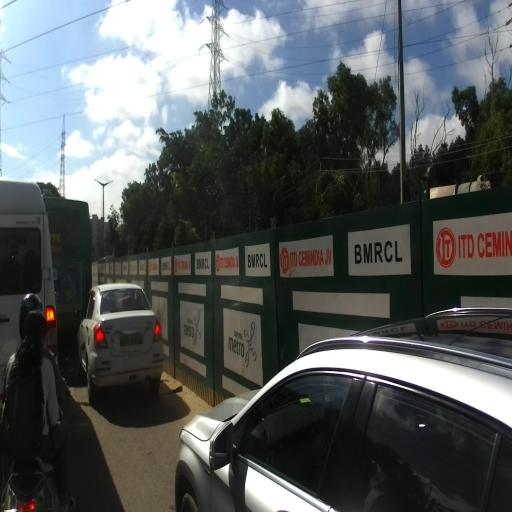street_light_0: (94, 178, 104, 190), (103, 180, 113, 190)
